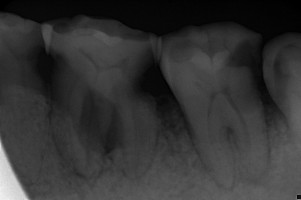Endo-Periodontal Lesion: (78, 91, 127, 153)
